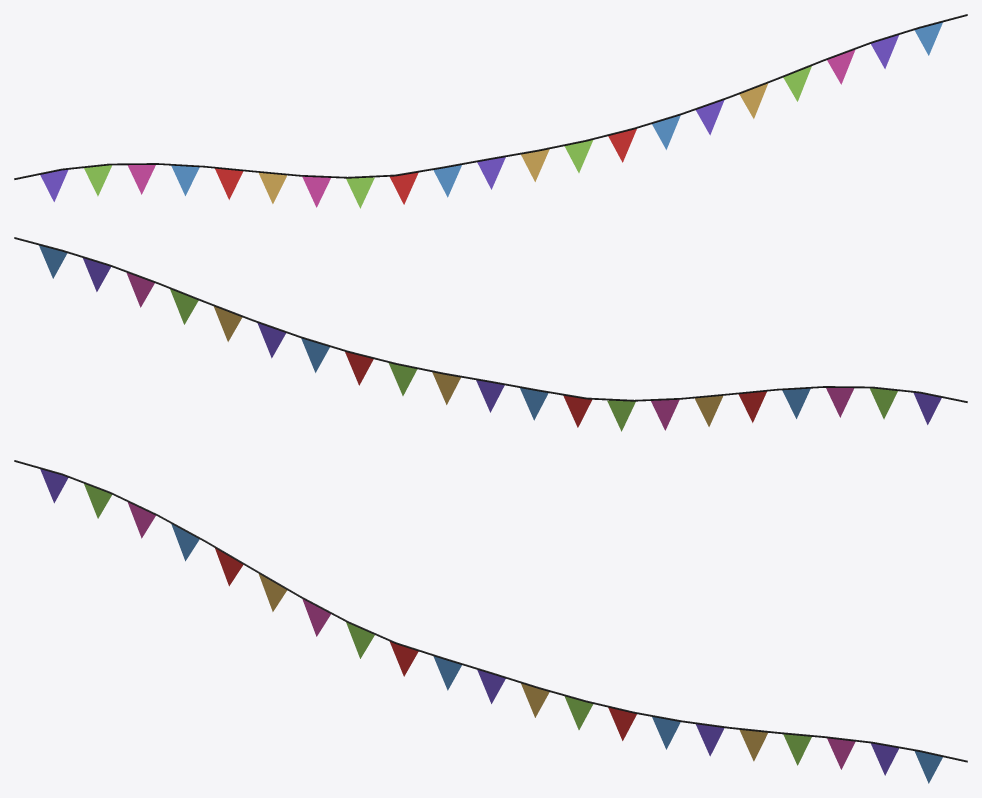
Rendered from TriFlag02.fbx.
3 views of the same model, one above another, from view 1: azimuth 30°, elevation 25°; view 2: azimuth 150°, elevation 25°; view 3: azimuth 330°, elevation 25° (orthographic).
Visible parts, largest first — view 1: TriFlag02; view 2: TriFlag02; view 3: TriFlag02.
Part boxes in pixels (x1,y1,x2,y2): TriFlag02: (14, 14, 967, 208); TriFlag02: (14, 237, 967, 431); TriFlag02: (14, 460, 967, 783).
Bounding box in the file's own units: 39.09 × 5.2 × 0.0672.
Materials: 1 (1 with a texture image).
